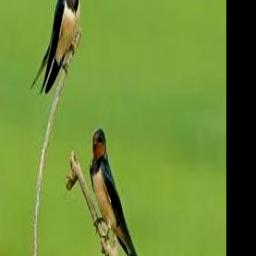Swallow: (90, 127, 146, 256), (31, 0, 81, 95)
